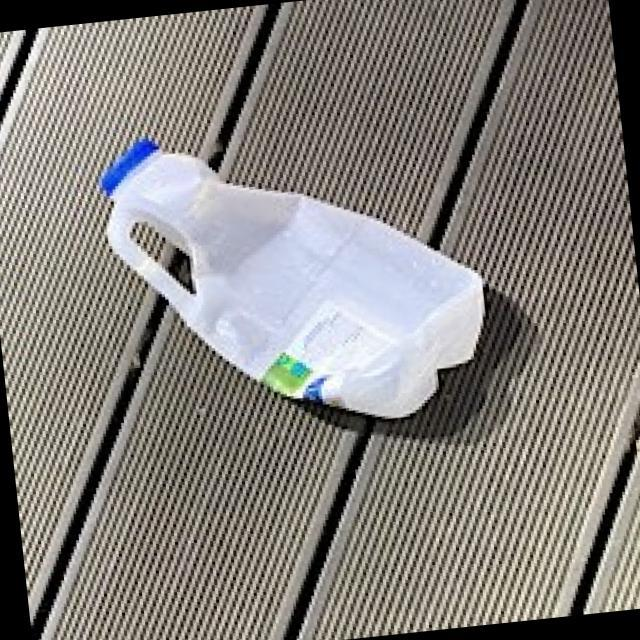HDPE Plastic: (99, 136, 489, 424)
